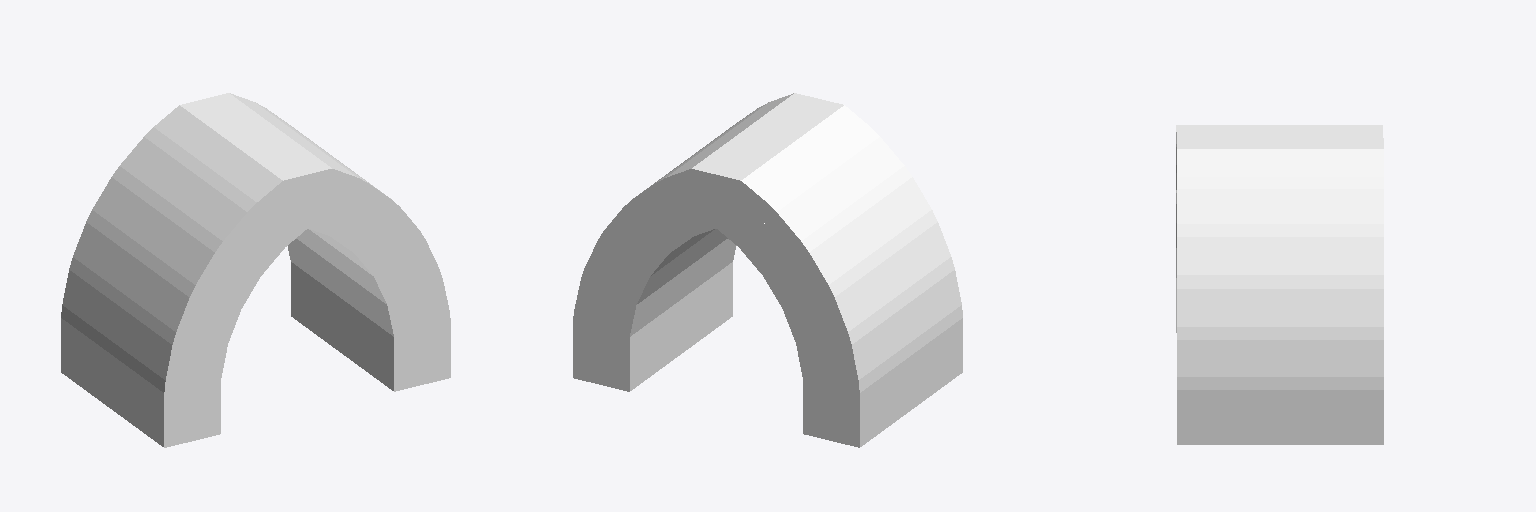
File: smooth_gothic_arch_1.obj
3 views of the same model, side by side, from view 1: azimuth 30°, elevation 25°; view 2: azimuth 150°, elevation 25°; view 3: azimuth 270°, elevation 25° (orthographic).
Parts seen in each view (by area): view 1: cube.064; view 2: cube.064; view 3: cube.064.
Boxes of the visible parts, x1=… form: cube.064: x1=61, y1=93, x2=450, y2=447; cube.064: x1=573, y1=93, x2=962, y2=447; cube.064: x1=1176, y1=125, x2=1383, y2=444.
Bounding box in the file's own units: 1.63 × 1.29 × 1.02.